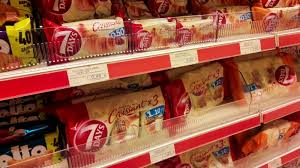7days: (70, 89, 162, 151), (44, 17, 125, 60)
